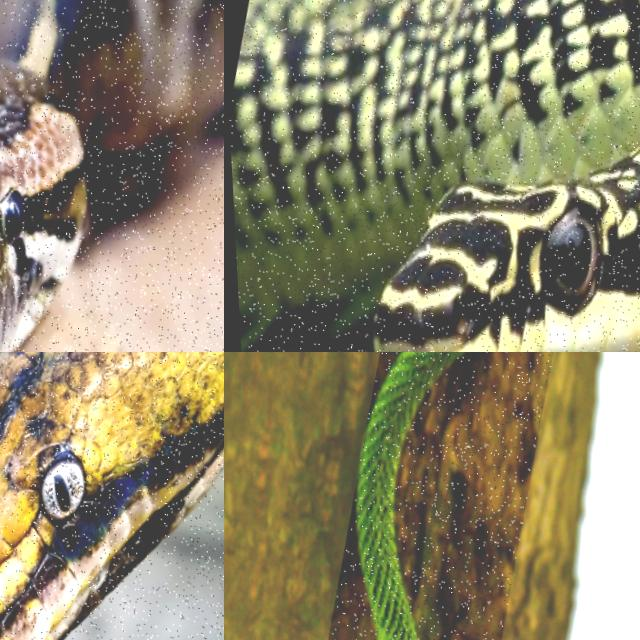Chrysopelea ornata: (229, 0, 639, 351), (356, 352, 466, 639)
Malayopython reticulatus: (0, 352, 223, 639)
Python bivittatus: (0, 0, 223, 351)
